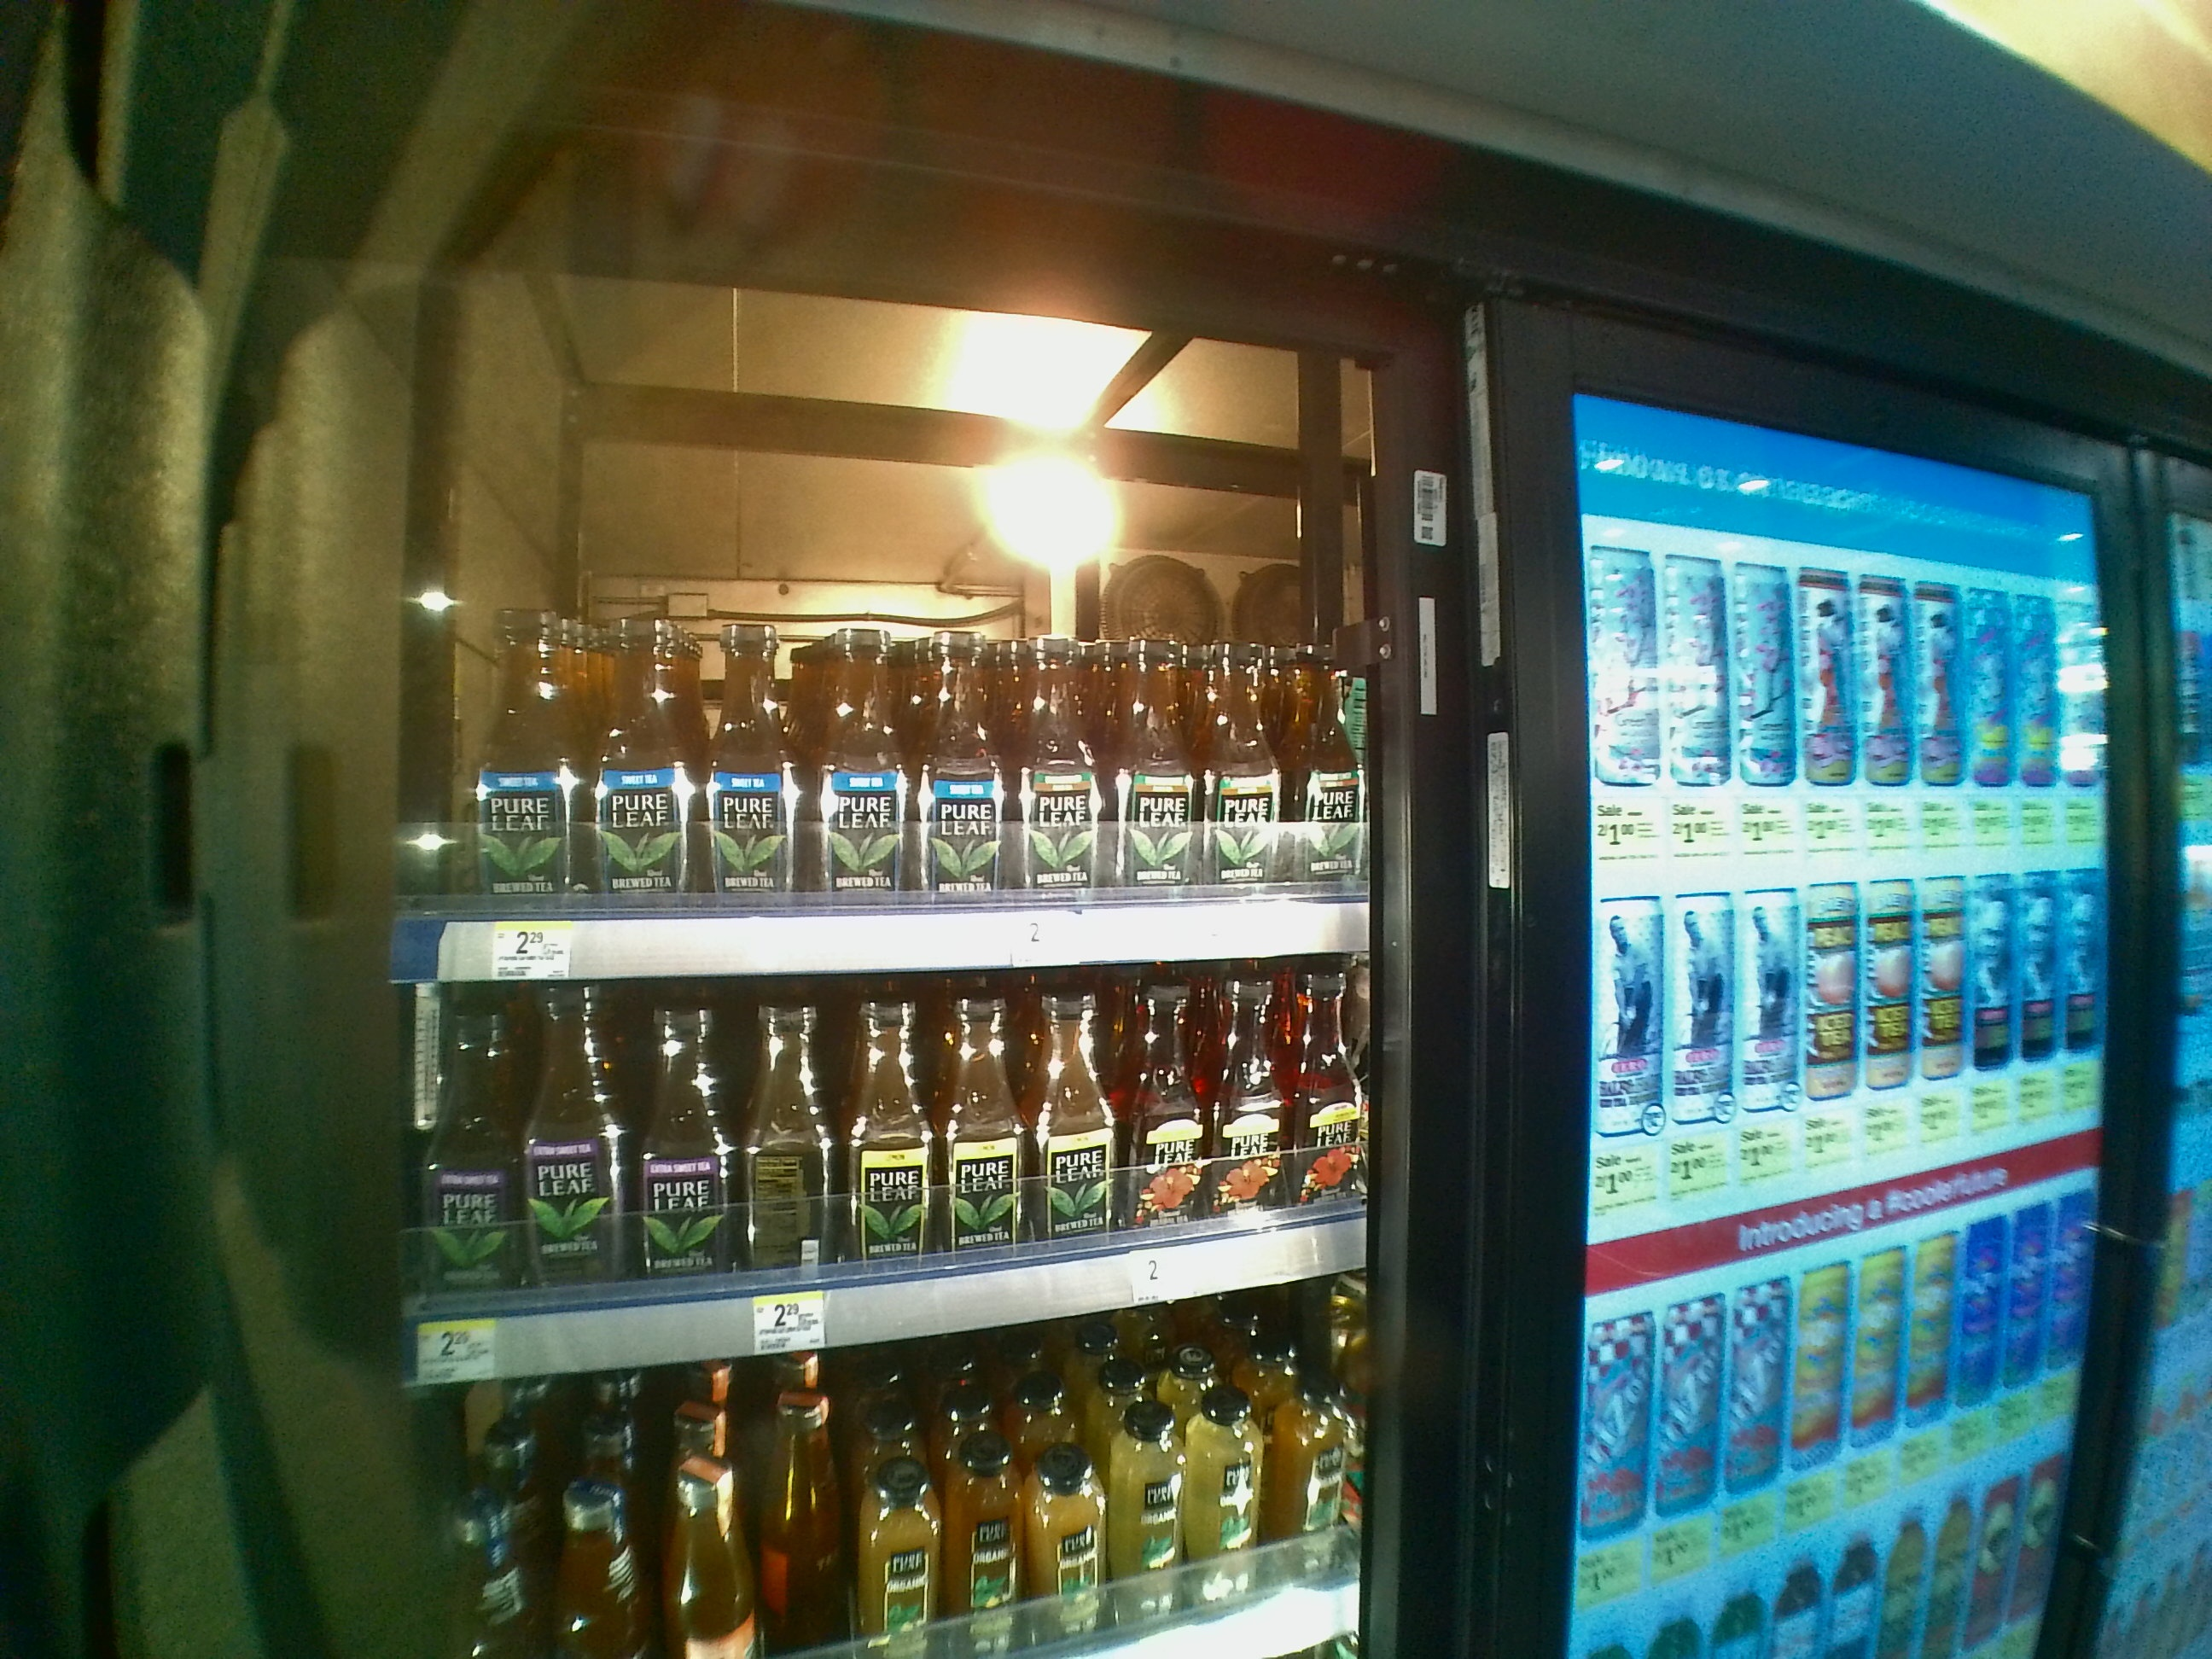shelf: (387, 355, 1367, 969), (381, 985, 1371, 1385)
